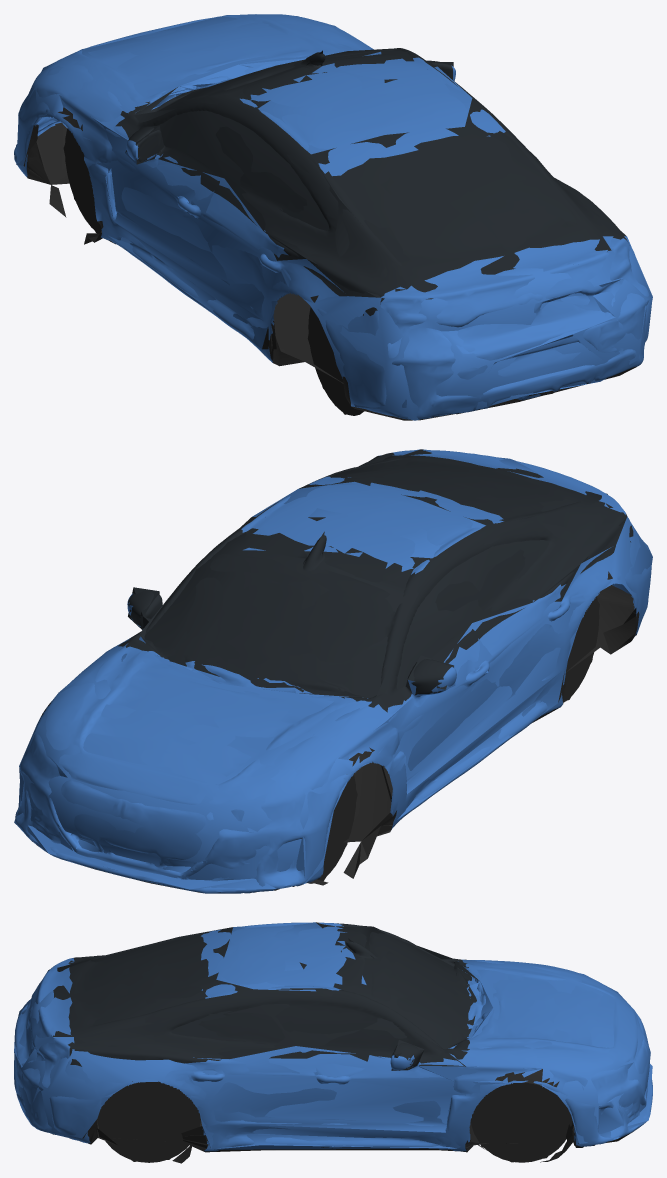
File: audi-e-tron-gt.glb
3 views of the same model, one above another, from view 1: azimuth 30°, elevation 25°; view 2: azimuth 150°, elevation 25°; view 3: azimuth 270°, elevation 25° (orthographic). The views are drawn at different scales.
Visible parts, largest first — view 1: body, far; view 2: body, far; view 3: body, far.
Part boxes in pixels (box(x1,y1,x2,y2)): body: box(14, 14, 651, 420); far: box(16, 15, 652, 420); body: box(15, 450, 651, 893); far: box(14, 449, 652, 889); body: box(14, 922, 652, 1163); far: box(14, 922, 652, 1162).
Bounding box in the file's own units: 2.24 × 1.59 × 4.99.
